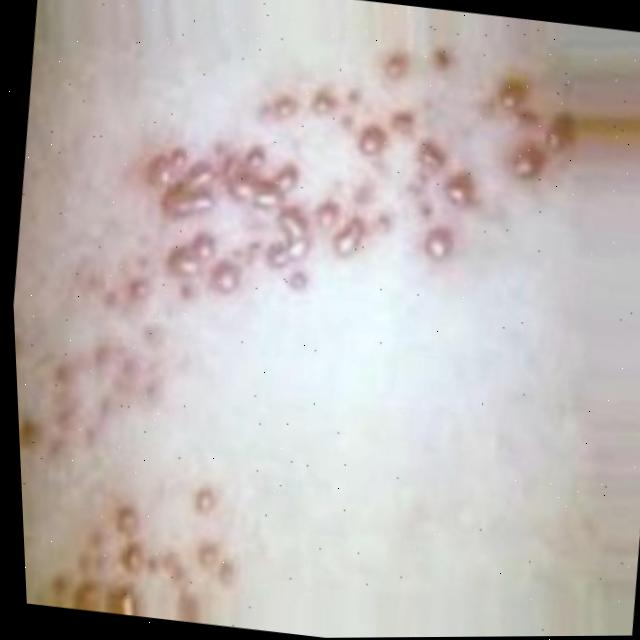Shingles: (0, 0, 620, 509), (29, 456, 267, 630)
